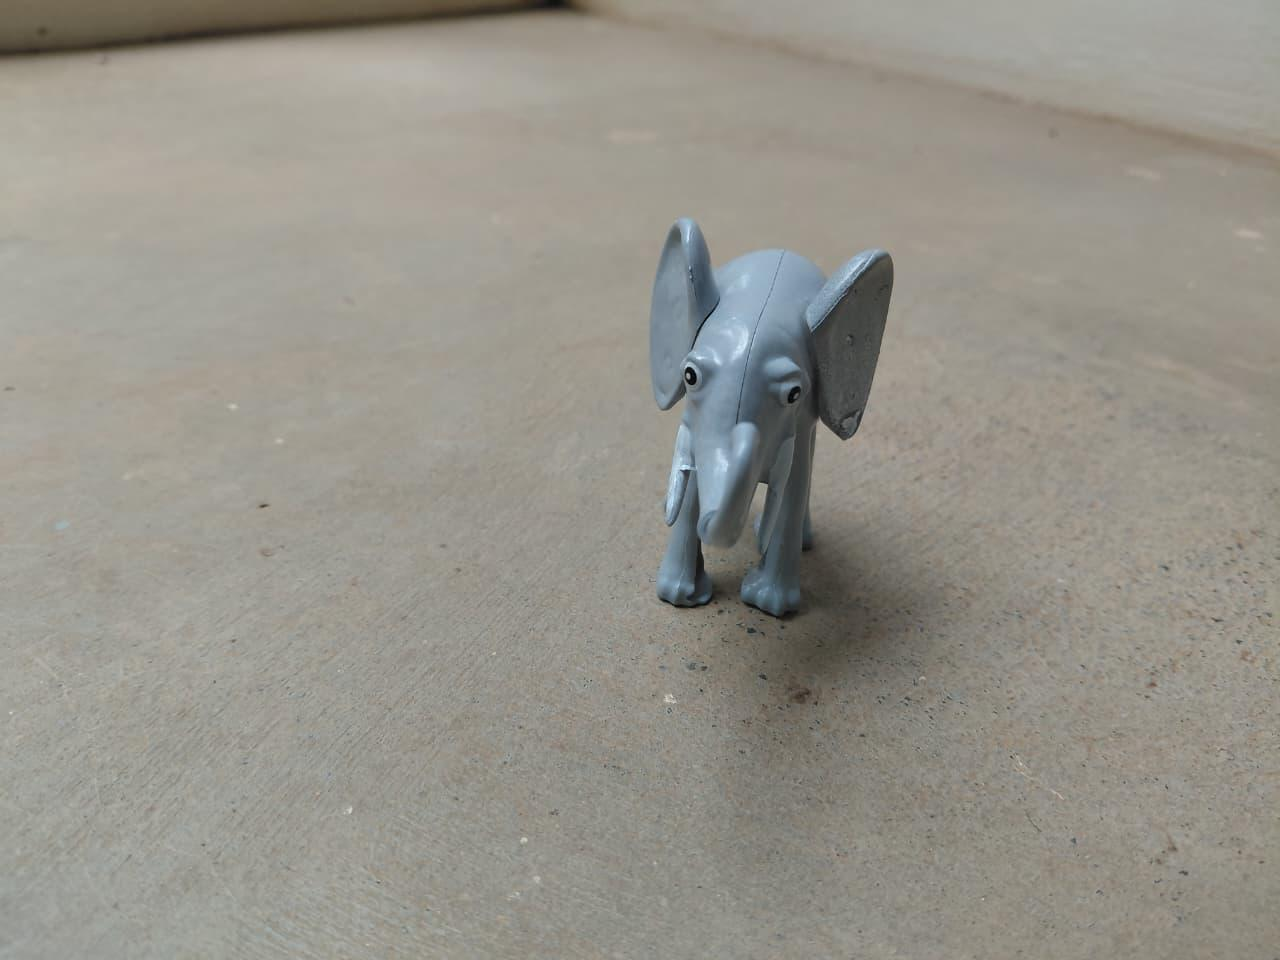elephant: (638, 207, 902, 629)
